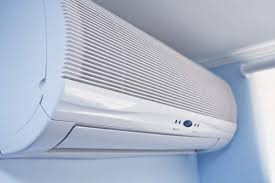ac: (1, 2, 242, 165)
